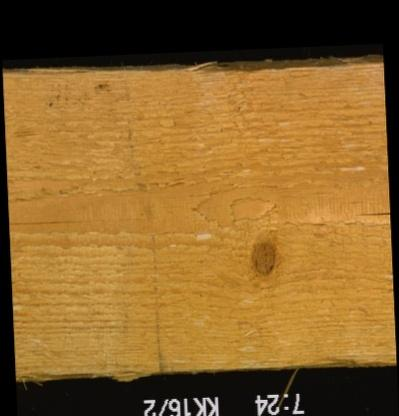sound_knot: (248, 237, 278, 277)
split: (344, 208, 389, 225)
wave: (185, 56, 377, 77)
